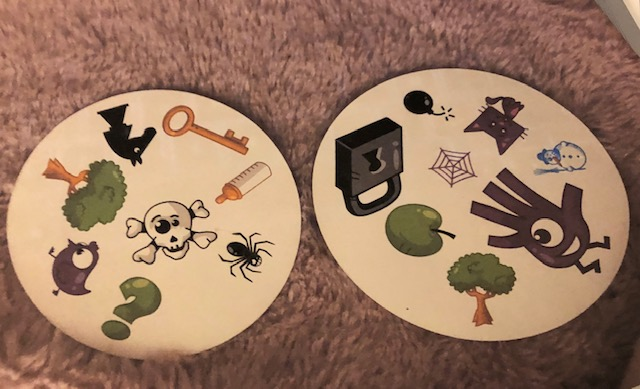araignee: (217, 228, 277, 283)
arbre: (36, 154, 135, 229), (442, 249, 522, 330)
biberon: (210, 160, 271, 206)
bombe: (399, 87, 455, 122)
bonhomme_neige: (530, 138, 594, 178)
cadenas: (329, 115, 406, 216)
chat: (462, 91, 530, 158)
cheval: (99, 104, 160, 166)
cle: (160, 99, 251, 159)
dooble: (464, 163, 618, 273)
oiseau: (42, 234, 106, 300)
point_interrogation: (96, 276, 165, 342)
pomme: (382, 202, 456, 259)
tete_mort: (120, 190, 219, 270)
toile: (423, 142, 481, 189)
